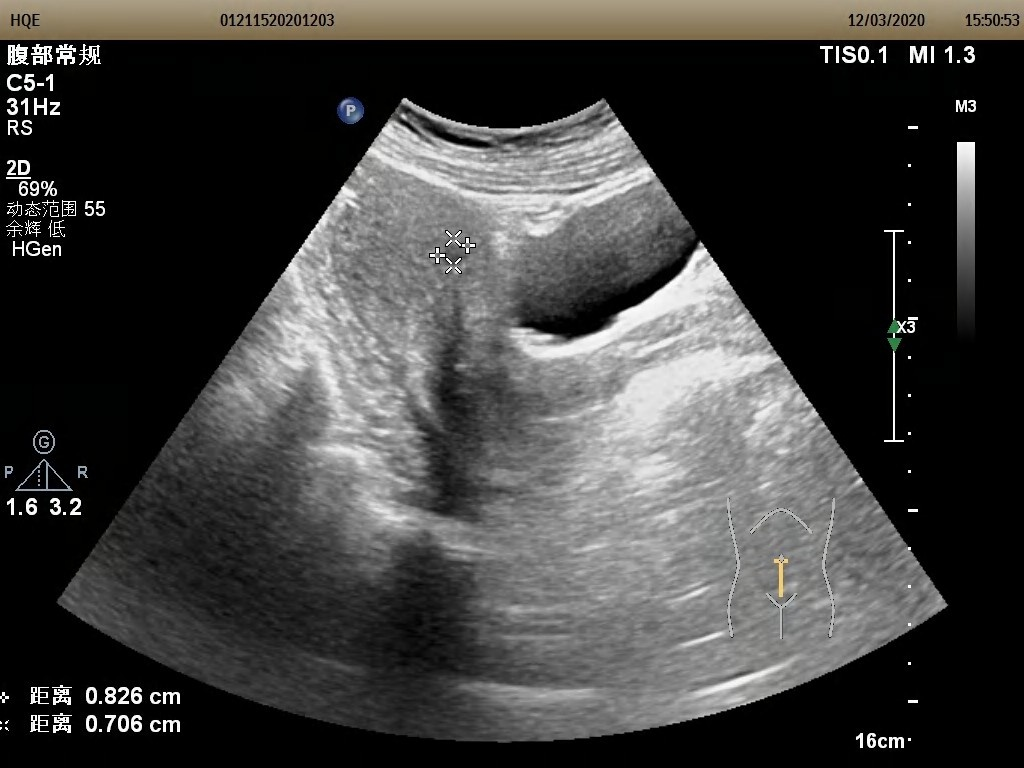肌瘤: (442, 244, 466, 263)
